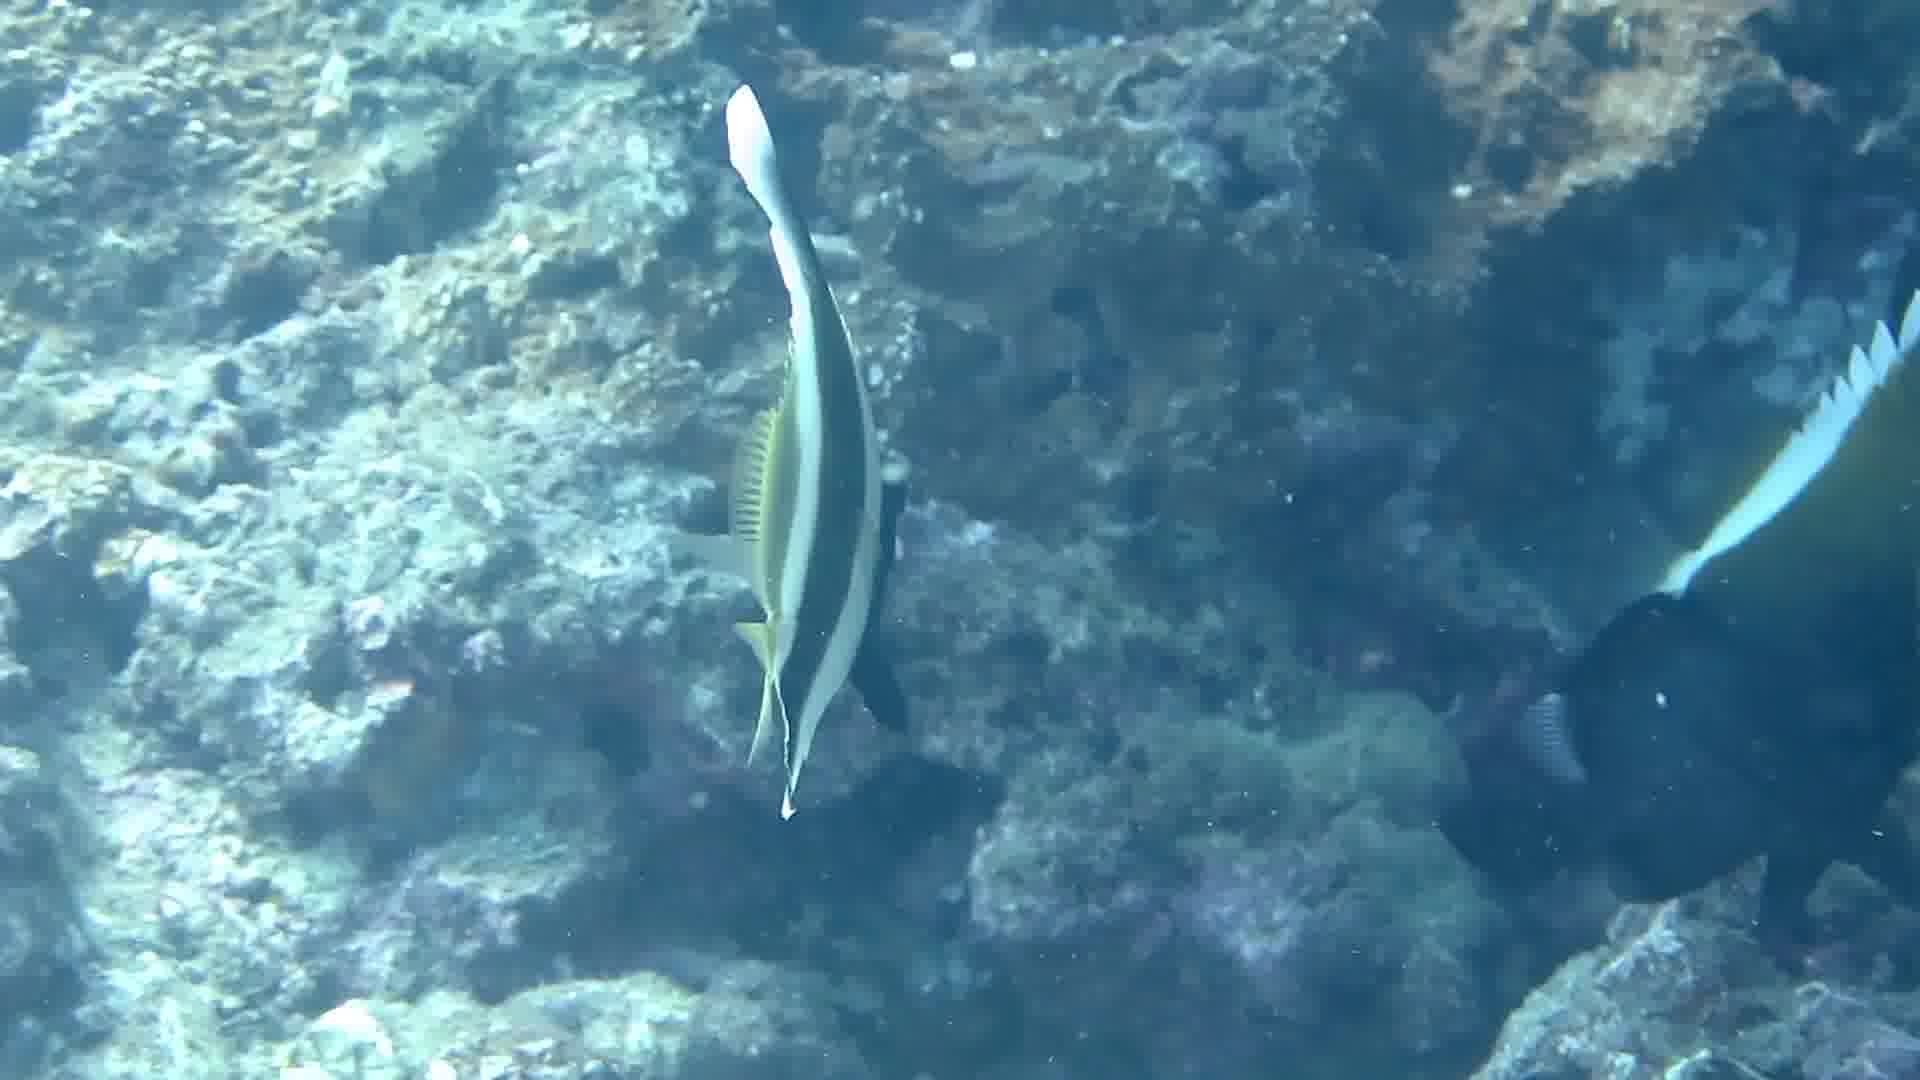Heniochus chrysostomus: (487, 61, 1029, 828)
